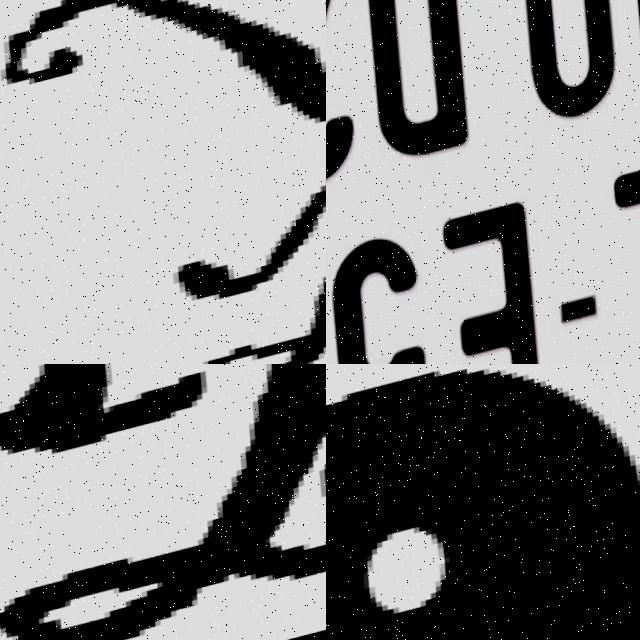0: (495, 0, 639, 137)
2: (326, 0, 375, 202)
5: (326, 225, 461, 364)
6: (326, 364, 640, 640)
D: (341, 0, 489, 172)
E: (430, 193, 568, 364)
G: (0, 364, 326, 640)
K: (91, 0, 326, 364)
L: (599, 158, 640, 364)
